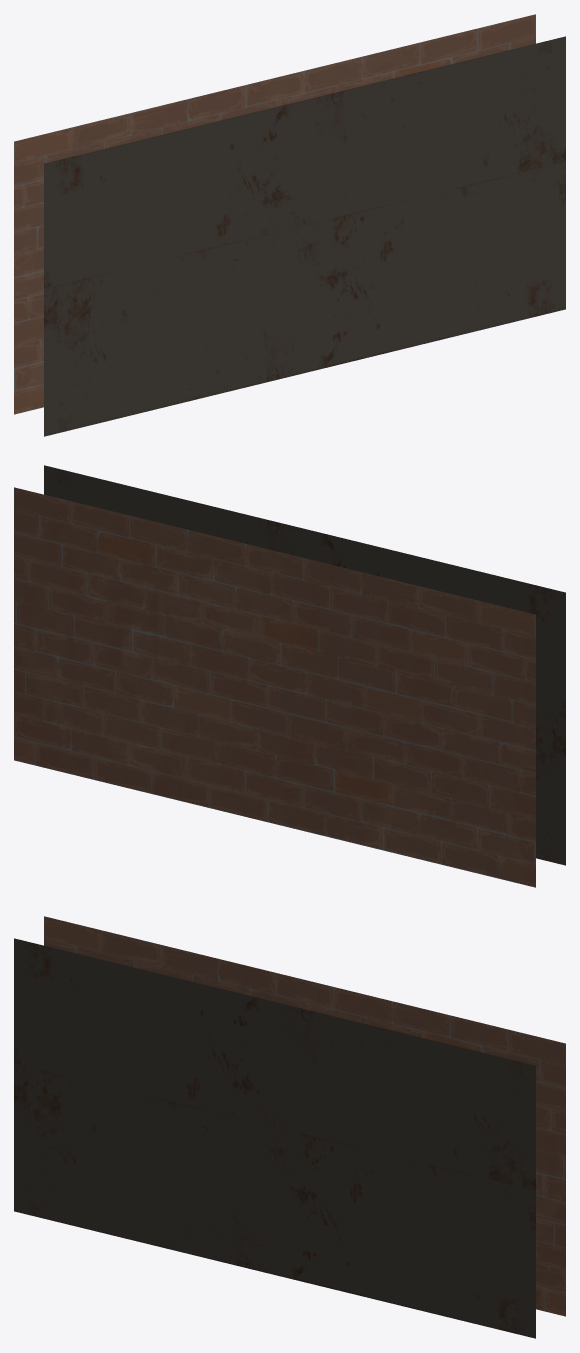
The model's file is Metal_Plain_1.gltf.
The picture shows the model from 3 angles, top to bottom: view 1: azimuth 30°, elevation 25°; view 2: azimuth 150°, elevation 25°; view 3: azimuth 330°, elevation 25°; orthographic projection.
Visible parts, largest first — view 1: Metal_Plain_1; view 2: Metal_Plain_1; view 3: Metal_Plain_1.
Part boxes in pixels (box(x1,y1,x2,y2)): Metal_Plain_1: box(14, 14, 565, 436); Metal_Plain_1: box(14, 465, 565, 887); Metal_Plain_1: box(14, 916, 565, 1338).
Size of the model in its own units: 2 by 1 by 0.2.
2 materials, 2 textured.
